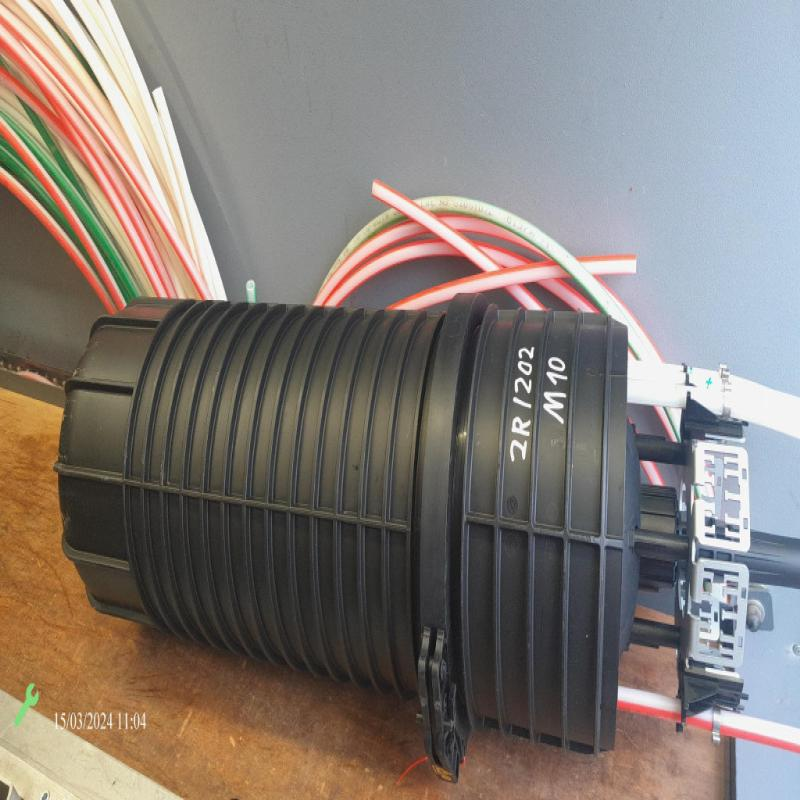NT-Muffen: (52, 290, 755, 779)
